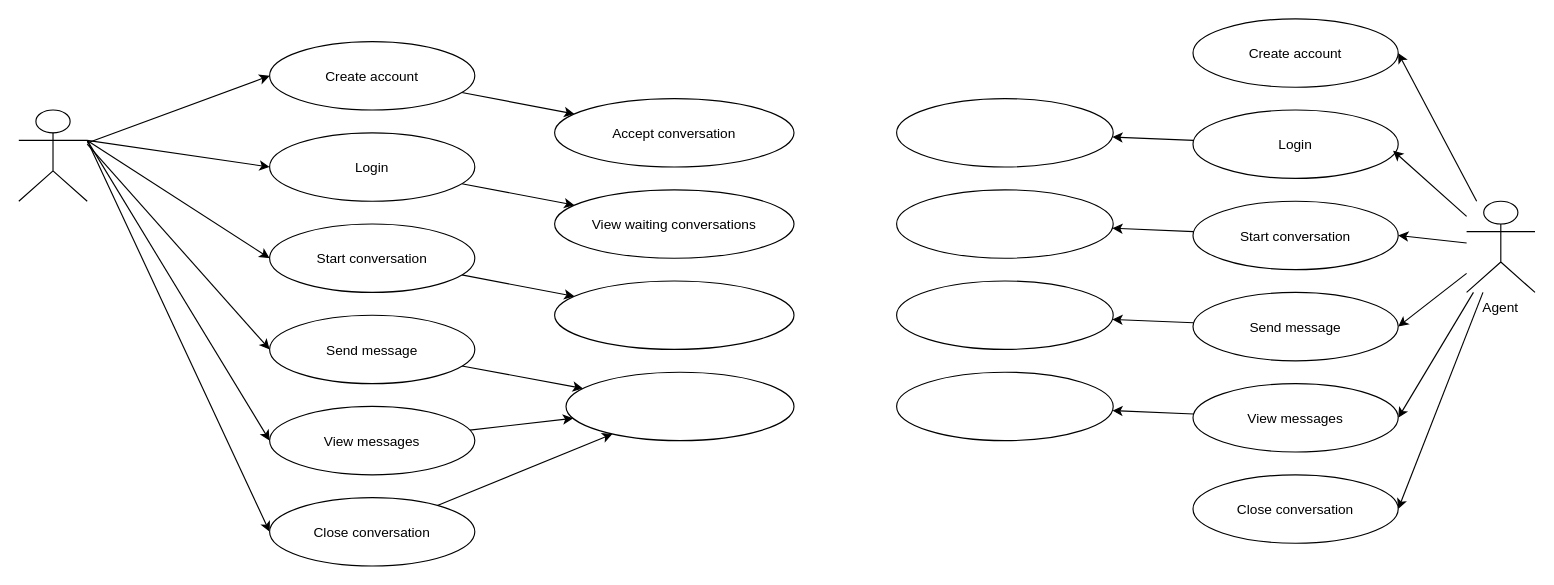
Image size: 1554x585. Some labels were removed from this diagram. The shapes that lost their labels are listed below. From the top down, each one's box as (x1, y1, x2, y2) in pixels, then its label:
(895, 97, 1113, 167): Mark online/offline
(18, 109, 87, 201): Client
(895, 189, 1113, 258): Mark messages read/unread
(553, 280, 794, 349): View conversation history
(895, 280, 1113, 349): Assign agent
(565, 371, 794, 441): Change conversation status
(895, 371, 1113, 441): Store conversation history
